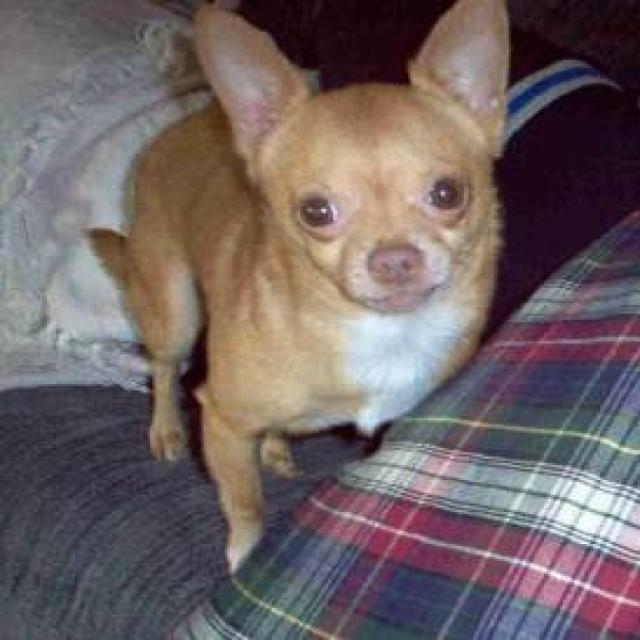dog-chihuahua: (75, 2, 520, 572)
